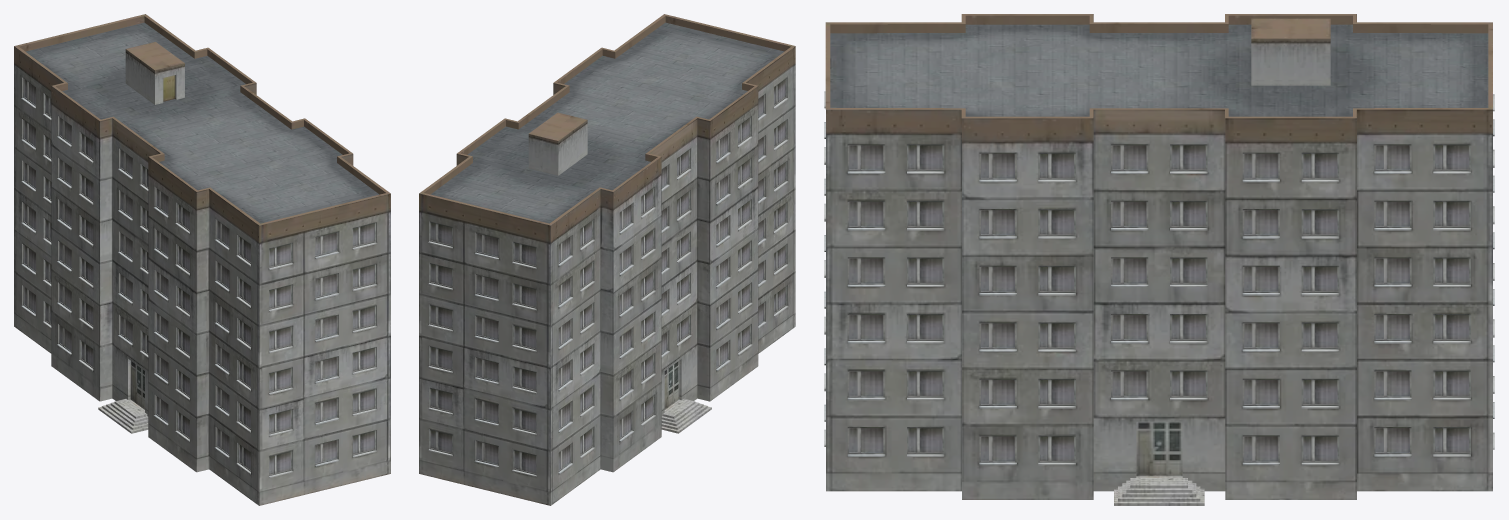
Rendered from apt-a.glb.
3 views of the same model, side by side, from view 1: azimuth 30°, elevation 25°; view 2: azimuth 150°, elevation 25°; view 3: azimuth 270°, elevation 25° (orthographic). The views are drawn at different scales.
Parts seen in each view (by area): view 1: BUILDING_lambert1_0; view 2: BUILDING_lambert1_0; view 3: BUILDING_lambert1_0.
Boxes of the visible parts, x1=… form: BUILDING_lambert1_0: x1=14, y1=14, x2=390, y2=505; BUILDING_lambert1_0: x1=419, y1=14, x2=795, y2=505; BUILDING_lambert1_0: x1=824, y1=14, x2=1494, y2=505.
Size of the model in its own units: 0.6832 by 1.15 by 1.66.
Materials: 1 (1 with a texture image).
